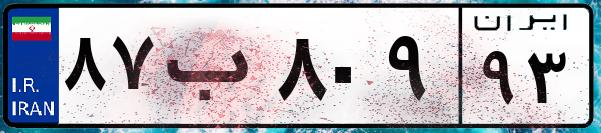0: (330, 28, 385, 110)
3: (525, 38, 570, 115)
7: (110, 28, 158, 98)
8: (270, 28, 330, 110), (57, 26, 110, 100)
9: (385, 28, 445, 110), (475, 38, 525, 113)
ب: (158, 20, 270, 120)
